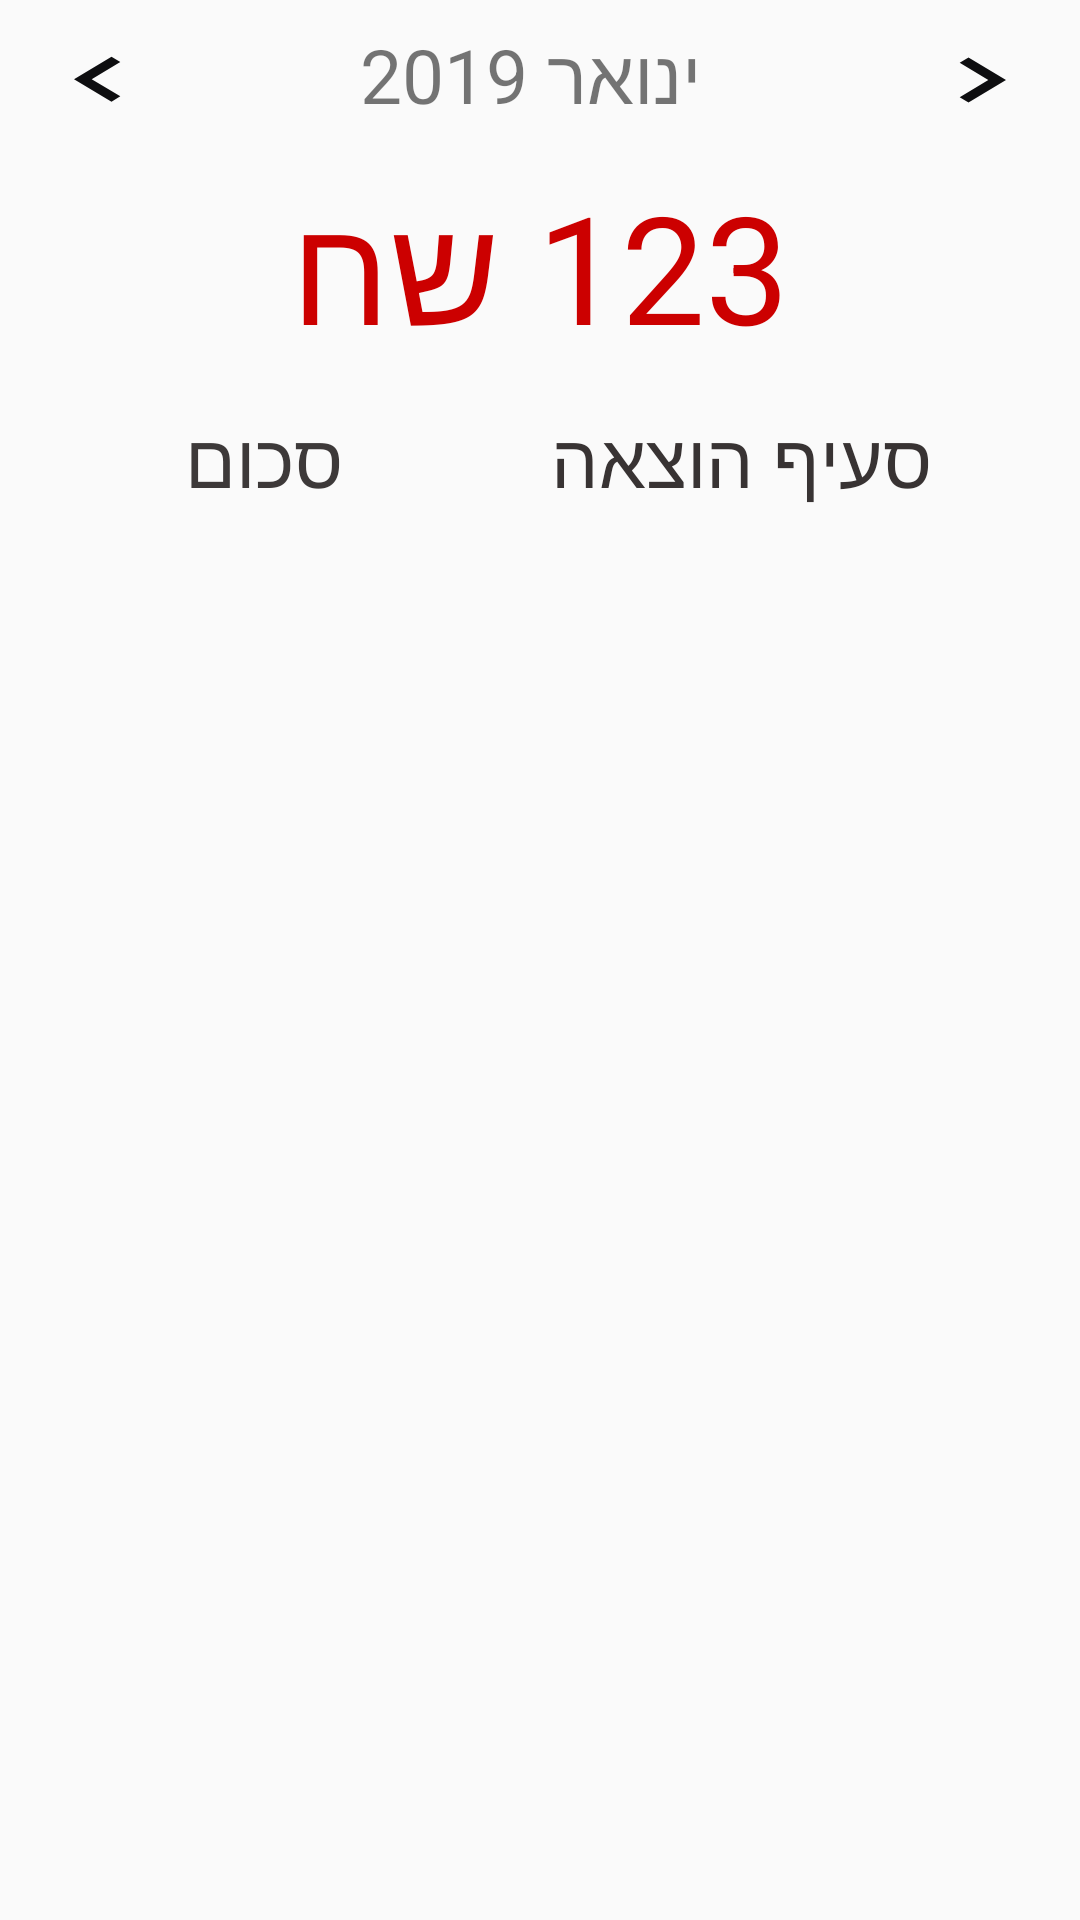

Locate icon controls on the screen. Image size 1080 x 1920, boxes as {"left": x1, "top": y1, "right": x2, "bottom": y2}.
keyboard arrow left: {"left": 74, "top": 57, "right": 120, "bottom": 102}
keyboard arrow right: {"left": 960, "top": 57, "right": 1006, "bottom": 103}
